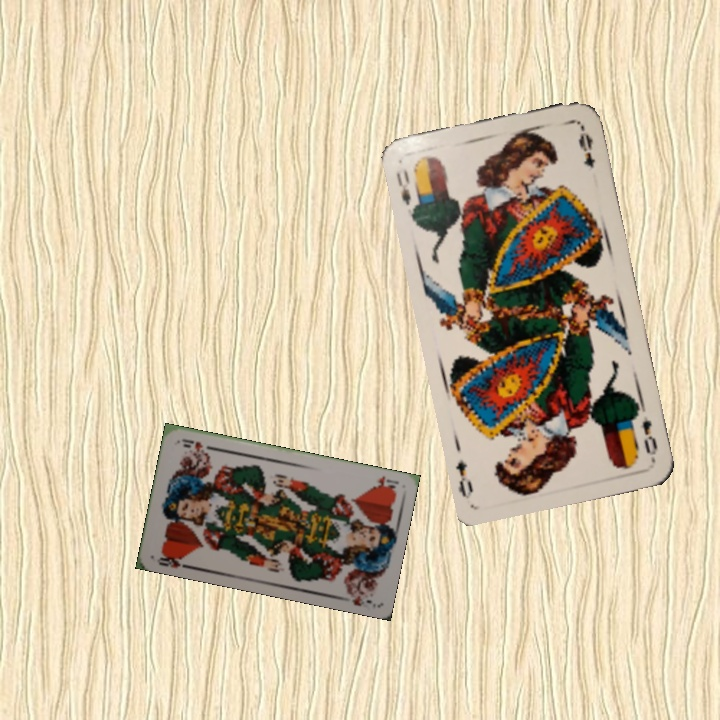EO: (638, 412, 660, 463), (392, 165, 414, 208)
HO: (153, 549, 192, 571), (369, 472, 401, 494)
